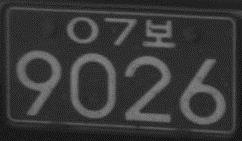0: (68, 51, 117, 119), (65, 15, 99, 44)
2: (124, 54, 172, 123)
6: (178, 57, 226, 125)
7: (104, 16, 137, 46)
9: (14, 48, 63, 115)
보: (141, 20, 176, 49)
